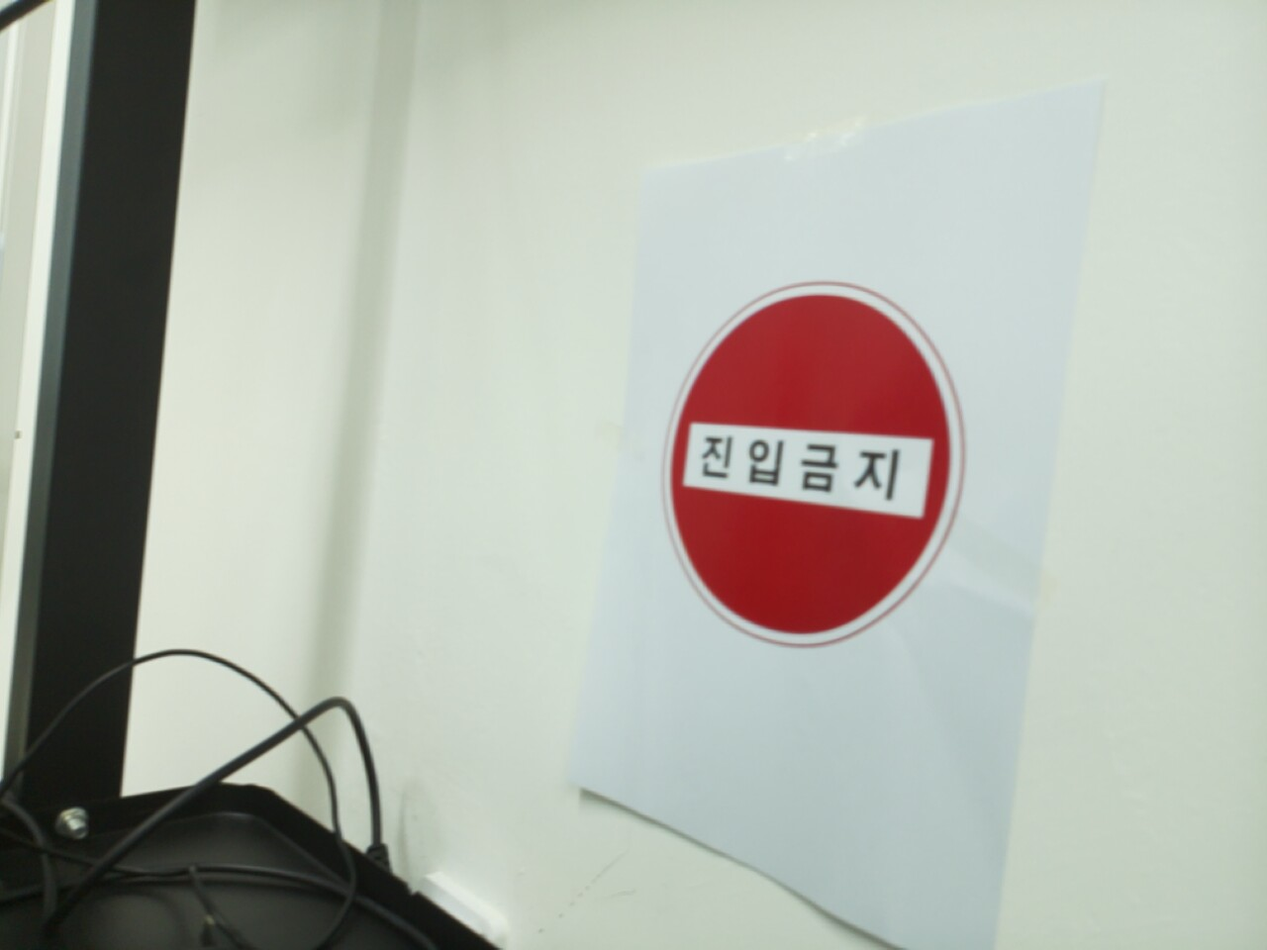do_not_enter: (661, 284, 959, 645)
